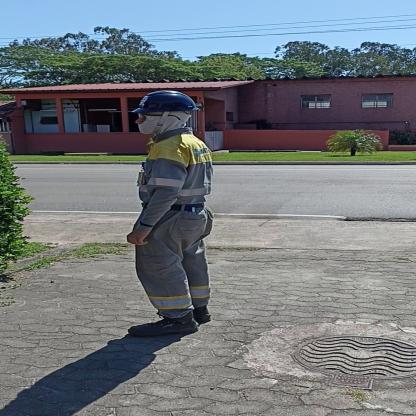Balaclava: (138, 109, 191, 136)
Capacete: (132, 89, 200, 112)
